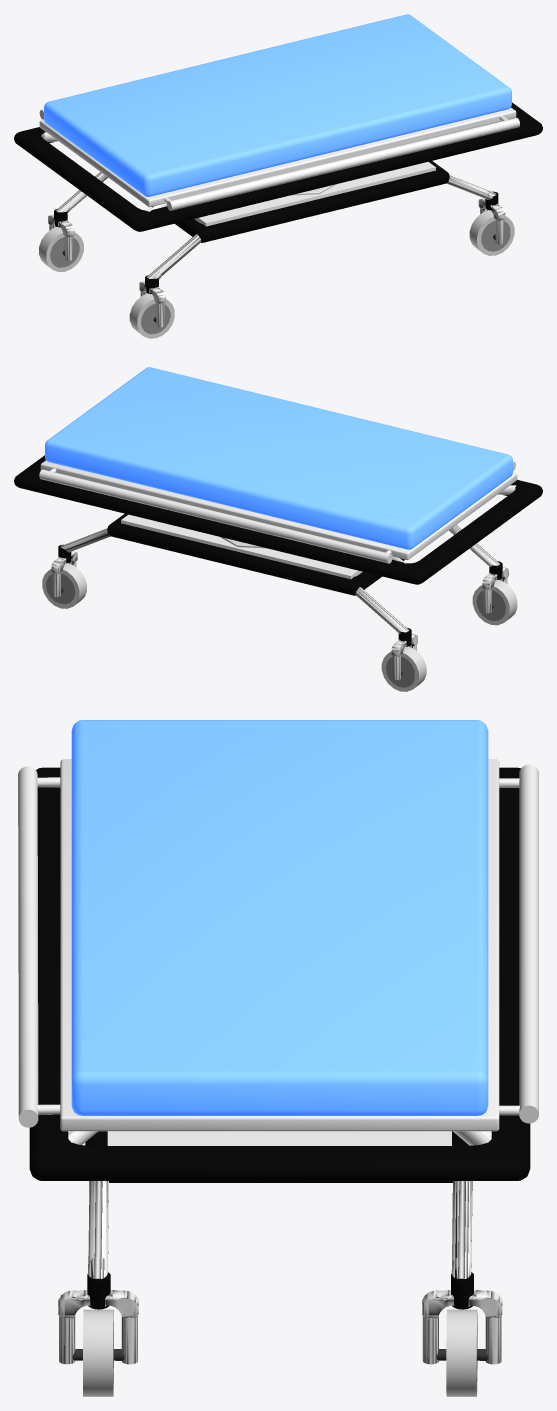
Rendered from stretcher.FBX.
3 views of the same model, one above another, from view 1: azimuth 30°, elevation 25°; view 2: azimuth 150°, elevation 25°; view 3: azimuth 270°, elevation 25° (orthographic). The views are drawn at different scales.
Visible parts, largest first — view 1: ChamferBox001, ChamferBox003, ChamferBox002, ChamferBox006, Box001, Tube006, Tube009, Tube007, ChamferBox007, ChamferBox008, ChamferBox009, Cylinder012 (+2 smaller); view 2: ChamferBox001, ChamferBox003, ChamferBox002, ChamferBox006, Box001, Tube007, Tube006, Tube008, ChamferBox005, ChamferBox008, ChamferBox009, Cylinder012 (+2 smaller); view 3: ChamferBox001, ChamferBox003, ChamferBox002, Box001, ChamferBox006, ChamferBox005, ChamferBox007, Tube008, Tube009.
Boxes of the visible parts, x1=… form: ChamferBox001: x1=44, y1=14, x2=511, y2=196; ChamferBox003: x1=14, y1=102, x2=542, y2=231; ChamferBox002: x1=39, y1=107, x2=519, y2=210; ChamferBox006: x1=54, y1=161, x2=496, y2=287; Box001: x1=194, y1=161, x2=435, y2=226; Tube006: x1=129, y1=293, x2=174, y2=338; Tube009: x1=469, y1=210, x2=514, y2=255; Tube007: x1=39, y1=227, x2=83, y2=271; ChamferBox007: x1=478, y1=189, x2=505, y2=244; ChamferBox008: x1=139, y1=271, x2=165, y2=327; ChamferBox009: x1=48, y1=206, x2=74, y2=260; Cylinder012: x1=141, y1=303, x2=170, y2=334; ChamferBox001: x1=45, y1=367, x2=512, y2=549; ChamferBox003: x1=14, y1=455, x2=542, y2=584; ChamferBox002: x1=39, y1=460, x2=517, y2=563; ChamferBox006: x1=58, y1=513, x2=502, y2=640; Box001: x1=121, y1=514, x2=362, y2=579; Tube007: x1=381, y1=646, x2=426, y2=691; Tube006: x1=472, y1=580, x2=517, y2=625; Tube008: x1=42, y1=563, x2=86, y2=608; ChamferBox005: x1=51, y1=542, x2=77, y2=597; ChamferBox008: x1=482, y1=561, x2=508, y2=613; ChamferBox009: x1=391, y1=628, x2=417, y2=679; Cylinder012: x1=476, y1=590, x2=505, y2=620; ChamferBox001: x1=71, y1=720, x2=488, y2=1115; ChamferBox003: x1=29, y1=767, x2=530, y2=1180; ChamferBox002: x1=18, y1=759, x2=538, y2=1131; Box001: x1=107, y1=1131, x2=451, y2=1145; ChamferBox006: x1=85, y1=1131, x2=473, y2=1293; ChamferBox005: x1=422, y1=1256, x2=502, y2=1364; ChamferBox007: x1=58, y1=1256, x2=138, y2=1364; Tube008: x1=446, y1=1309, x2=477, y2=1396; Tube009: x1=83, y1=1309, x2=113, y2=1396.
Size of the model in its own units: 2.2 by 0.8537 by 1.21.
